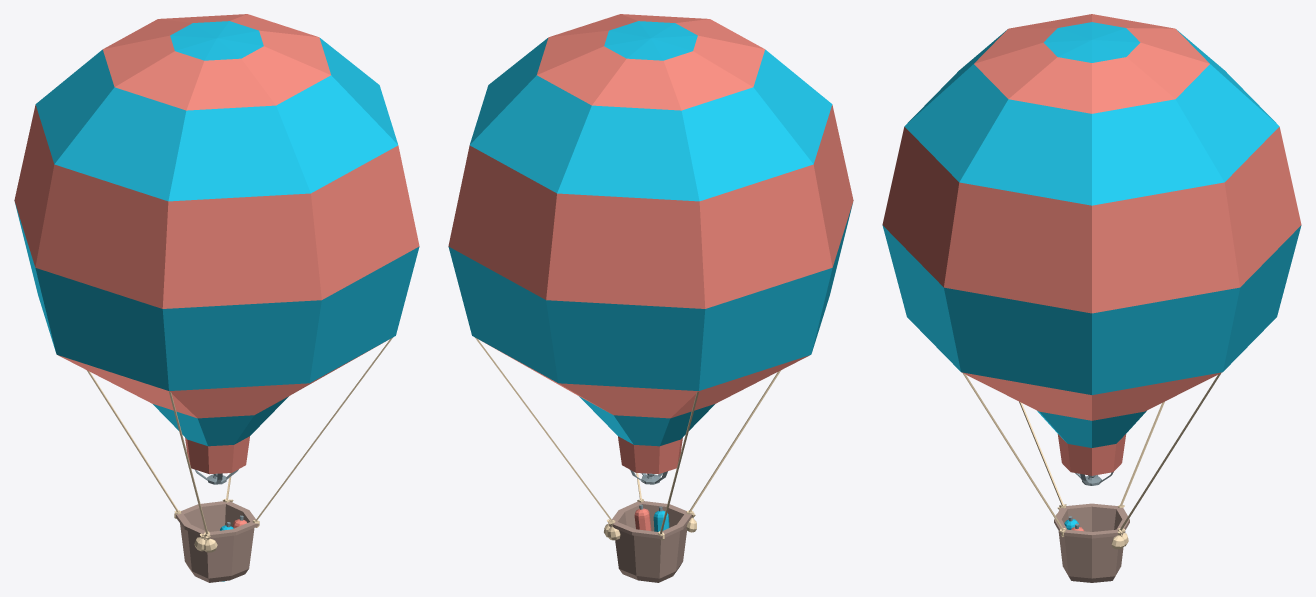
File: Hot_Air_Balloon_01.gltf
3 views of the same model, side by side, from view 1: azimuth 30°, elevation 25°; view 2: azimuth 150°, elevation 25°; view 3: azimuth 270°, elevation 25° (orthographic).
Visible parts, largest first — view 1: node-0; view 2: node-0; view 3: node-0.
Boxes of the visible parts, bbox=[...] form: node-0: bbox=[14, 14, 419, 582]; node-0: bbox=[448, 14, 853, 582]; node-0: bbox=[882, 14, 1301, 582].
Bounding box in the file's own units: 7.06 × 9.94 × 7.06.
